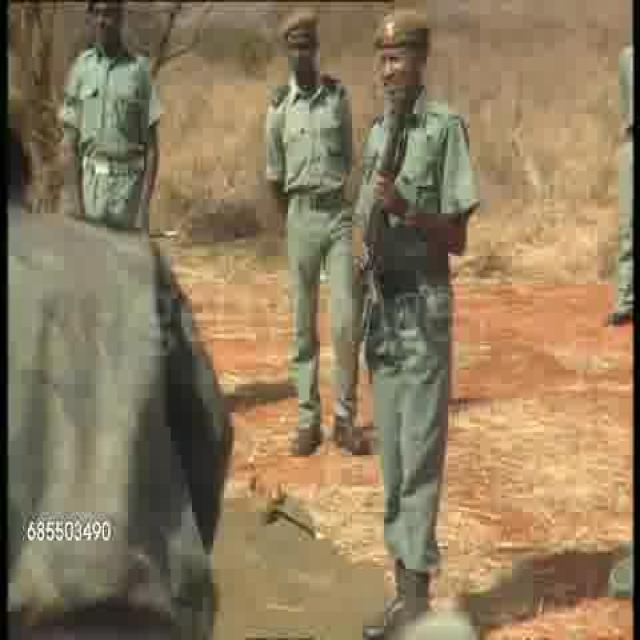poacher: (1, 138, 224, 614), (356, 1, 468, 632), (257, 2, 363, 464), (62, 2, 170, 218)
weapon: (355, 82, 413, 336)
